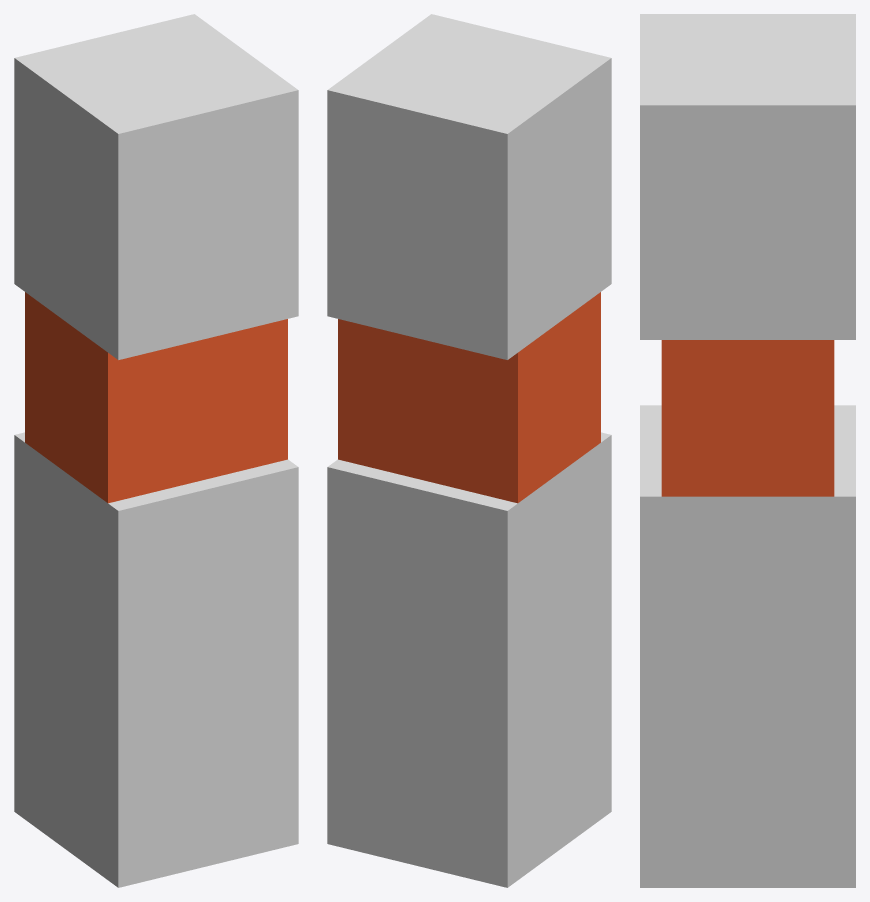
File: Commisary Spacer 2.obj
3 views of the same model, side by side, from view 1: azimuth 30°, elevation 25°; view 2: azimuth 150°, elevation 25°; view 3: azimuth 270°, elevation 25° (orthographic). The views are drawn at different scales.
Size of the model in its own units: 10 by 40 by 10.
1 material, 1 textured.
